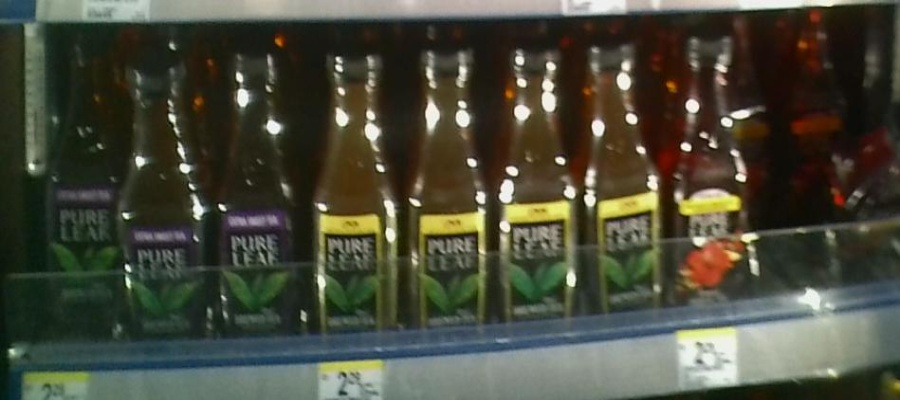bottle: (402, 47, 496, 350), (216, 46, 311, 343), (120, 49, 212, 331), (313, 48, 398, 338), (579, 42, 665, 319), (669, 35, 752, 319), (499, 43, 578, 333), (41, 35, 118, 315)
